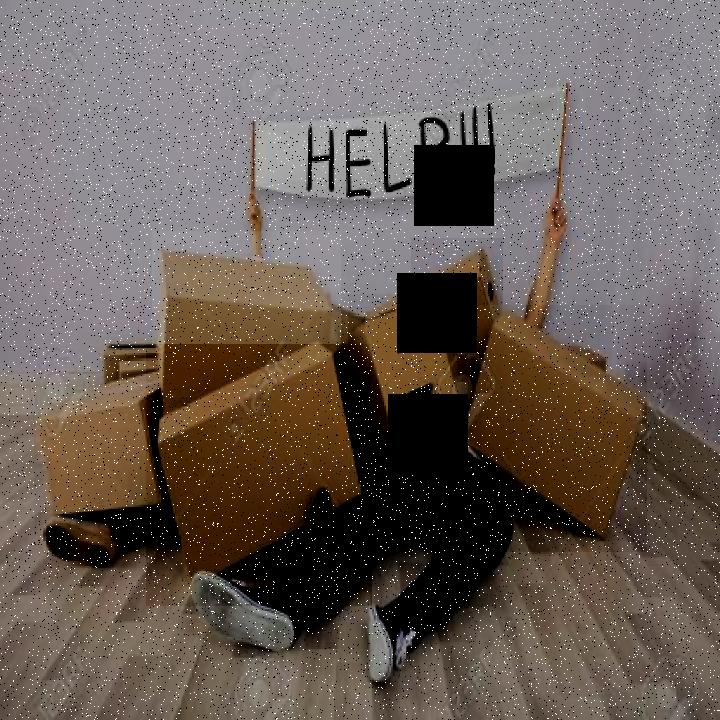box: (146, 344, 372, 606), (468, 305, 647, 552), (152, 231, 341, 416), (35, 374, 165, 536), (348, 294, 457, 476), (411, 238, 503, 382)
